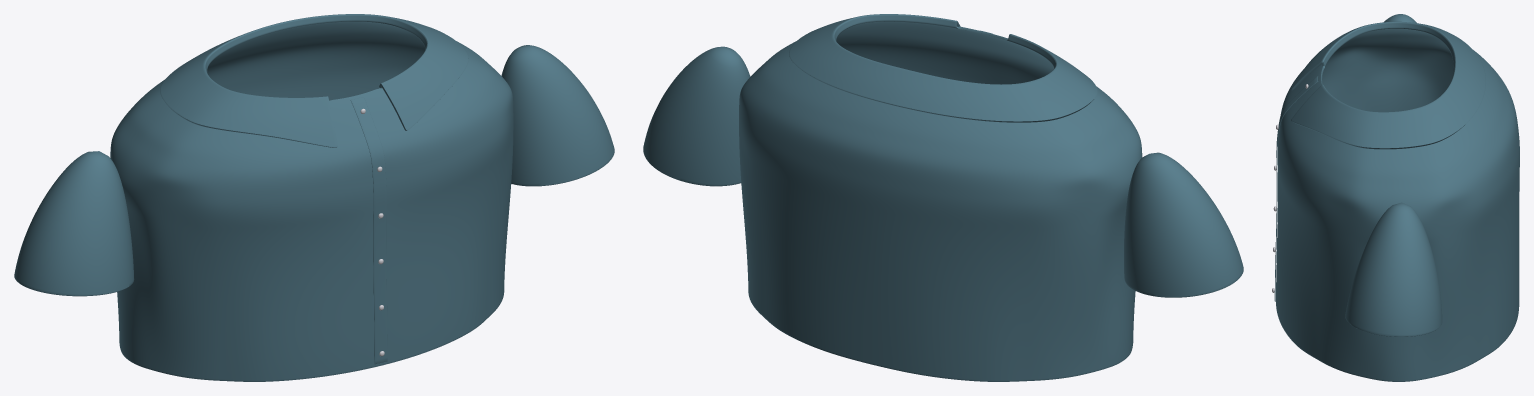
File: Masculine-buttonup-top.glb
3 views of the same model, side by side, from view 1: azimuth 30°, elevation 25°; view 2: azimuth 150°, elevation 25°; view 3: azimuth 270°, elevation 25° (orthographic). The views are drawn at different scales.
Parts seen in each view (by area): view 1: Clothing / repaired202 buttonup, Sleeve / full fabric wrap201 -1, Sleeve / full fabric wrap201 1, Button-up / sewn placket202; view 2: Clothing / repaired202 buttonup, Sleeve / full fabric wrap201 -1, Sleeve / full fabric wrap201 1; view 3: Clothing / repaired202 buttonup, Sleeve / full fabric wrap201 1, Button-up / sewn placket202.
Part boxes in pixels (x1,y1,x2,y2): Clothing / repaired202 buttonup: (110, 14, 513, 381); Sleeve / full fabric wrap201 -1: (14, 151, 134, 295); Sleeve / full fabric wrap201 1: (501, 45, 614, 186); Button-up / sewn placket202: (350, 97, 387, 364); Clothing / repaired202 buttonup: (739, 14, 1142, 381); Sleeve / full fabric wrap201 -1: (1124, 152, 1243, 297); Sleeve / full fabric wrap201 1: (643, 46, 750, 186); Clothing / repaired202 buttonup: (1276, 21, 1519, 381); Sleeve / full fabric wrap201 1: (1345, 202, 1442, 336); Button-up / sewn placket202: (1274, 76, 1318, 301).
Bounding box in the file's own units: 1.08 × 0.4713 × 0.4409.
